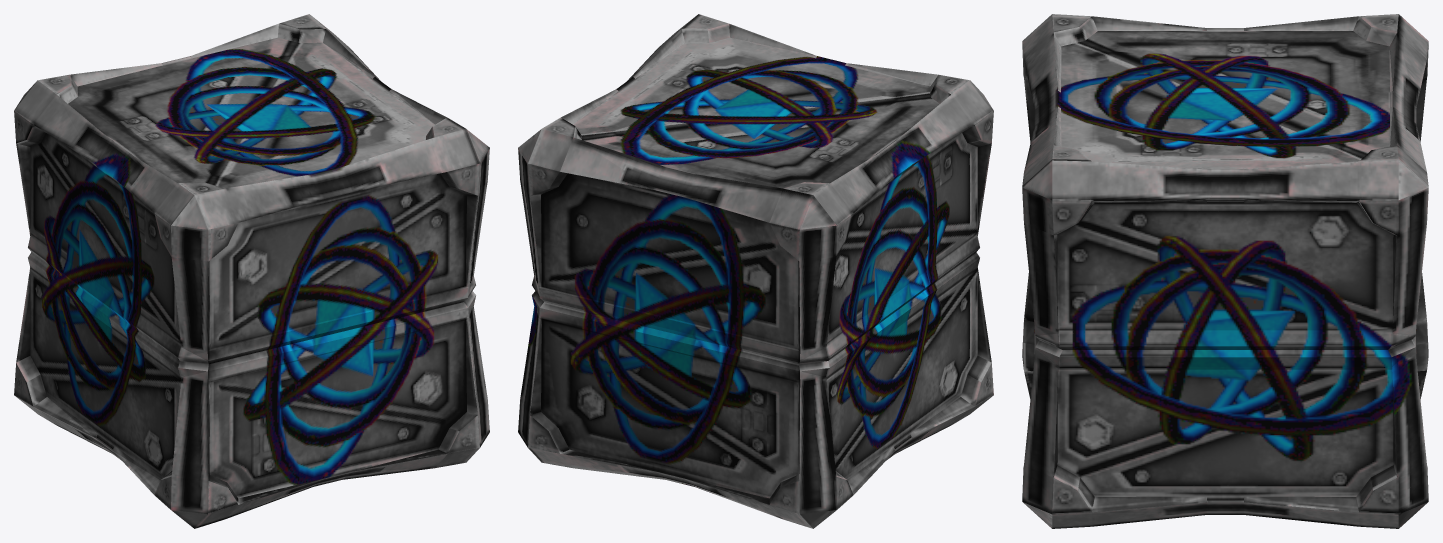
Rendered from weapon_shield_ammo.fbx.
3 views of the same model, side by side, from view 1: azimuth 30°, elevation 25°; view 2: azimuth 150°, elevation 25°; view 3: azimuth 270°, elevation 25° (orthographic). The views are drawn at different scales.
Visible parts, largest first — view 1: Cube.003; view 2: Cube.003; view 3: Cube.003.
Part boxes in pixels (bbox=[...]): Cube.003: bbox=[14, 14, 489, 528]; Cube.003: bbox=[518, 14, 993, 528]; Cube.003: bbox=[1022, 14, 1428, 528].
Bounding box in the file's own units: 112 × 112 × 112.
